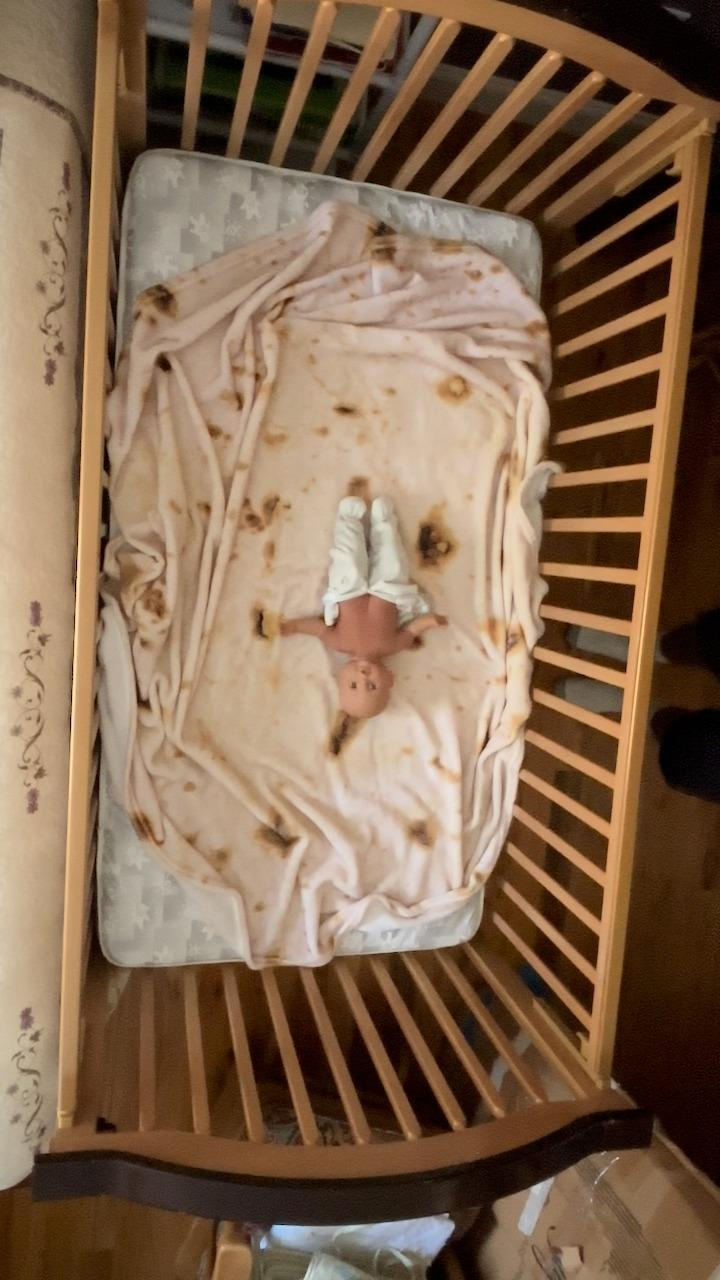baby: (270, 476, 452, 712)
